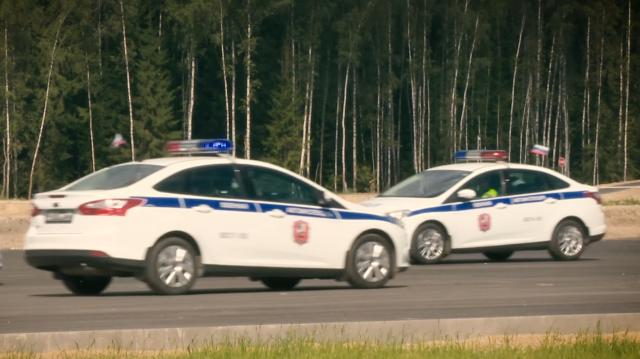police car: (19, 134, 413, 302), (352, 146, 612, 270)
